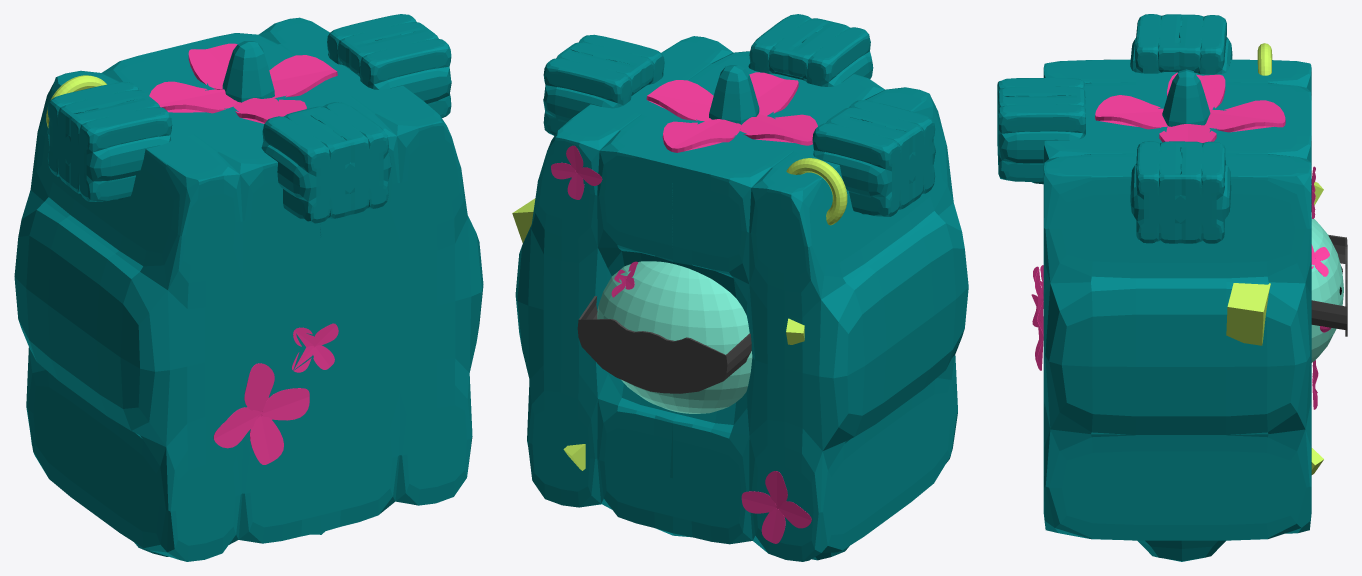
The model's file is aldeanoTendero_COLORES_BASE.fbx.
The picture shows the model from 3 angles, left to right: view 1: azimuth 30°, elevation 25°; view 2: azimuth 150°, elevation 25°; view 3: azimuth 270°, elevation 25°; orthographic projection. The views are drawn at different scales.
Visible parts, largest first — view 1: cuerpo, cuerpo.003, cuerpo.001, cuerpo.002, florG, florG.007, pistilo, florG.008, Torus; view 2: cuerpo, Sphere, cuerpo.001, gafas, cuerpo.002, florG, cuerpo.003, florG.001, pistilo, Torus, florG.003; view 3: cuerpo, cuerpo.002, cuerpo.003, cuerpo.001, florG, Sphere, Cube.001, pistilo, gafas, florG.007, Torus.
Boxes of the visible parts, bbox=[...] form: cuerpo: bbox=[14, 17, 483, 561]; cuerpo.003: bbox=[261, 102, 391, 223]; cuerpo.001: bbox=[47, 81, 172, 201]; cuerpo.002: bbox=[327, 14, 451, 117]; florG: bbox=[149, 43, 337, 123]; florG.007: bbox=[213, 363, 309, 464]; pistilo: bbox=[222, 41, 274, 102]; florG.008: bbox=[292, 323, 338, 372]; Torus: bbox=[46, 75, 106, 127]; cuerpo: bbox=[515, 36, 968, 561]; Sphere: bbox=[597, 261, 752, 413]; cuerpo.001: bbox=[812, 100, 935, 216]; gafas: bbox=[577, 296, 751, 393]; cuerpo.002: bbox=[543, 34, 664, 135]; florG: bbox=[646, 72, 817, 152]; cuerpo.003: bbox=[748, 14, 873, 86]; florG.001: bbox=[741, 471, 811, 543]; pistilo: bbox=[709, 65, 759, 124]; Torus: bbox=[786, 158, 847, 225]; florG.003: bbox=[551, 145, 602, 199]; cuerpo: bbox=[1043, 59, 1311, 561]; cuerpo.002: bbox=[1130, 141, 1231, 243]; cuerpo.003: bbox=[997, 78, 1085, 184]; cuerpo.001: bbox=[1130, 14, 1232, 74]; florG: bbox=[1095, 72, 1285, 142]; Sphere: bbox=[1311, 217, 1343, 362]; Cube.001: bbox=[1226, 283, 1270, 345]; pistilo: bbox=[1162, 69, 1210, 126]; gafas: bbox=[1311, 234, 1347, 336]; florG.007: bbox=[1031, 266, 1043, 370]; Torus: bbox=[1257, 43, 1272, 75].
Size of the model in its own units: 203 by 253 by 178.
